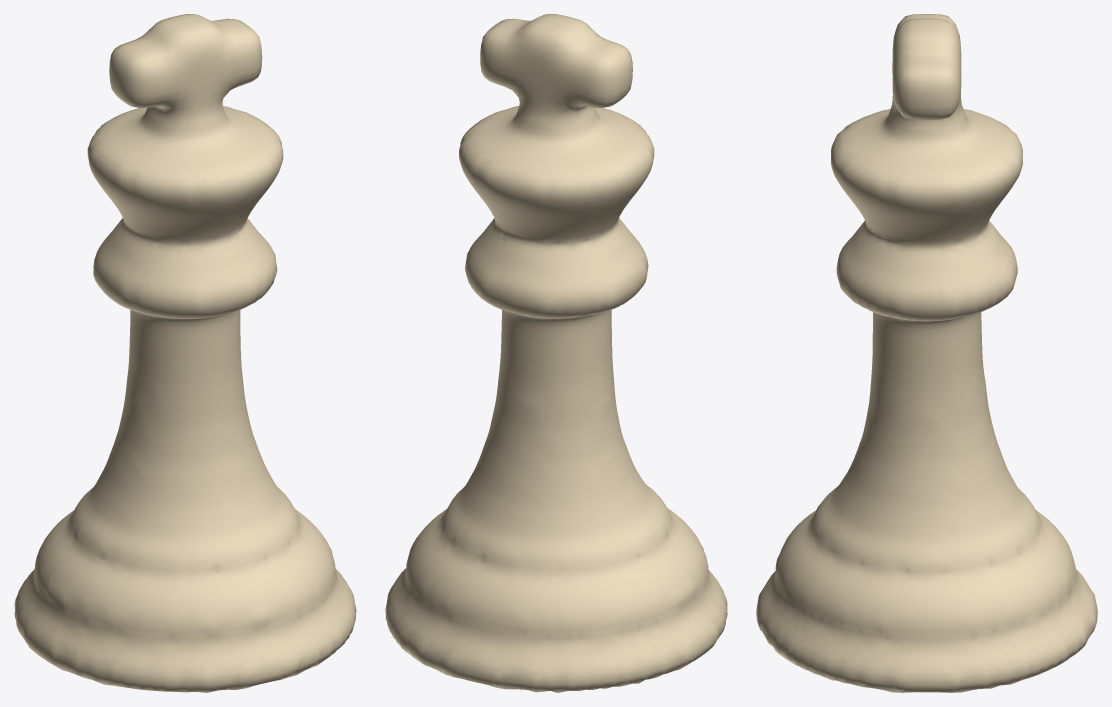
File: KFB_Chess_king_light.r1.glb
3 views of the same model, side by side, from view 1: azimuth 30°, elevation 25°; view 2: azimuth 150°, elevation 25°; view 3: azimuth 270°, elevation 25° (orthographic).
Parts seen in each view (by area): view 1: KFB_Chess_king_light; view 2: KFB_Chess_king_light; view 3: KFB_Chess_king_light.
Boxes of the visible parts, x1,y1,x2,y2 form: KFB_Chess_king_light: [14, 14, 356, 692]; KFB_Chess_king_light: [385, 14, 727, 692]; KFB_Chess_king_light: [756, 14, 1097, 692].
Size of the model in its own units: 3.1 by 6 by 3.1.
